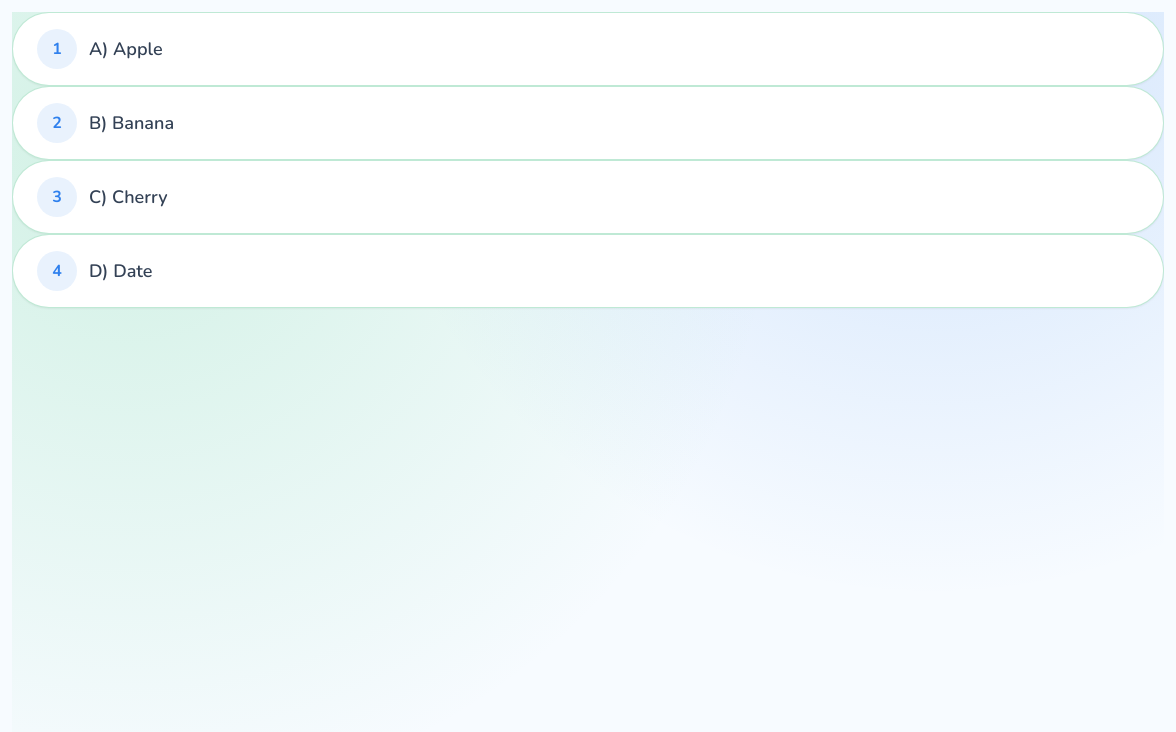
Test case: Quiz flow › shows feedback after selecting an answer
Click the text "B) Banana".
click(132, 123)  # box [89,111,174,135]
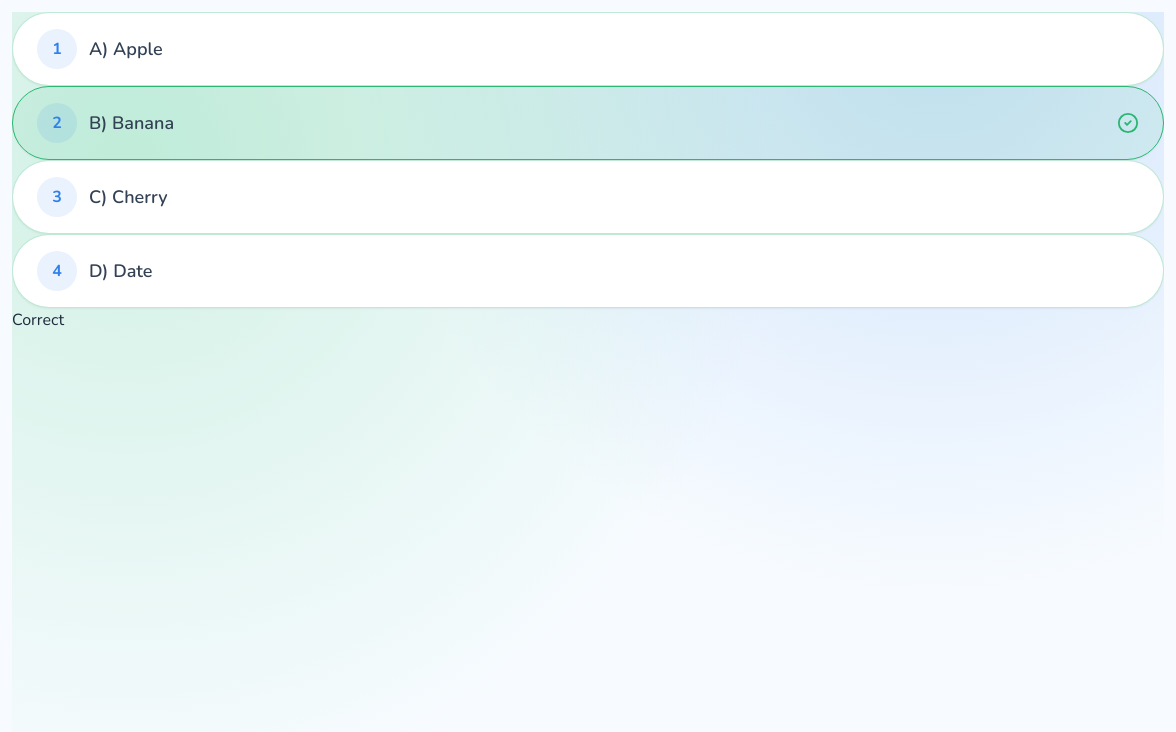
Expected: the message reads "Correct", [12,309,64,331]
